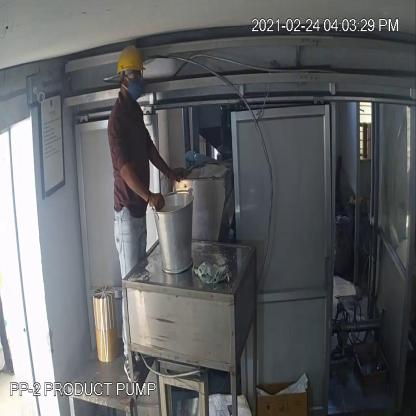helmet: (116, 46, 152, 81)
